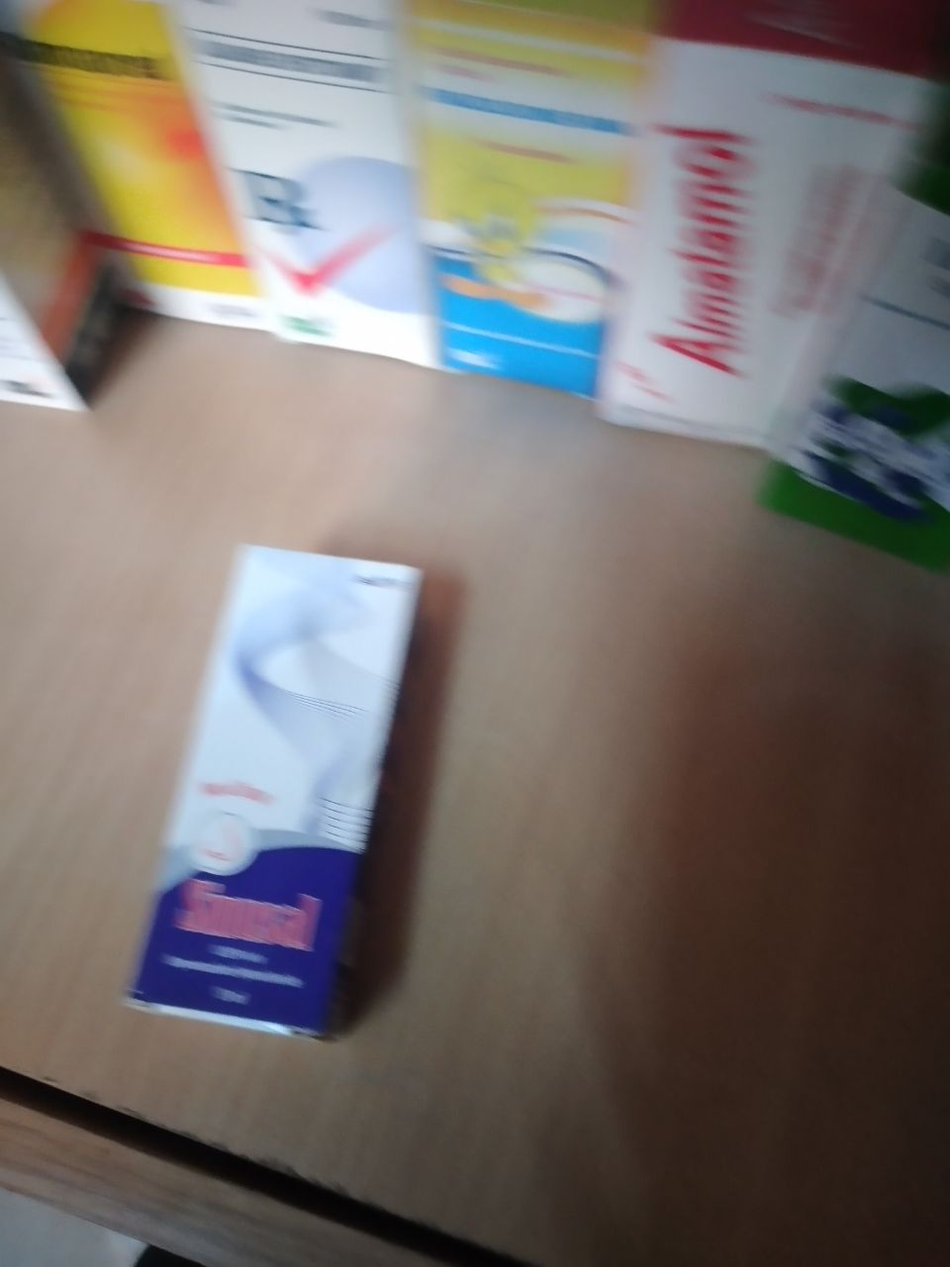Medicine: (132, 538, 435, 1062), (630, 0, 930, 488), (389, 0, 630, 406), (168, 0, 429, 360), (729, 162, 950, 568), (0, 0, 264, 327), (0, 66, 165, 426)
